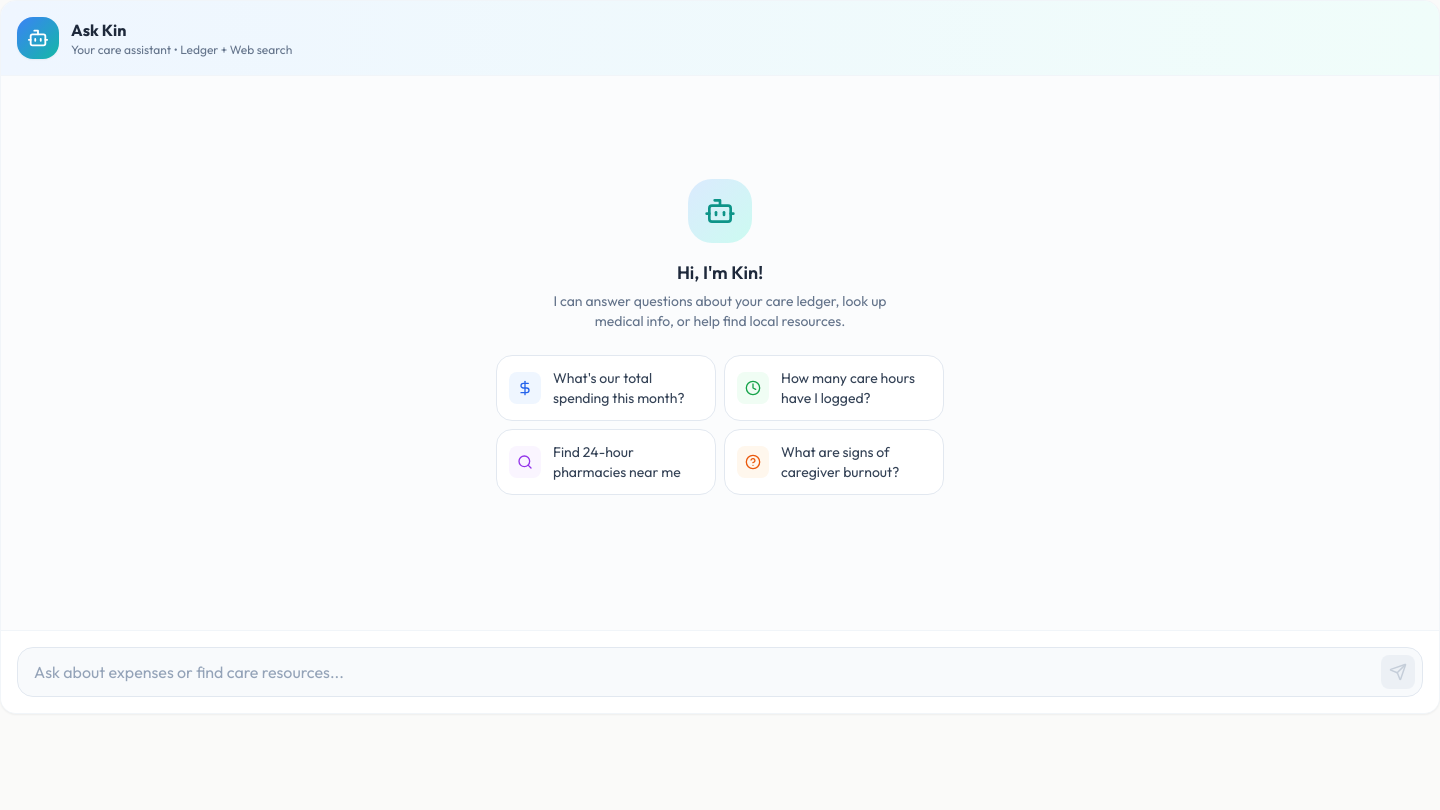
Test: ChatAssistant › shows a friendly error message on failure
(page scrolled)
Type "Help" into the field with placeholder "Ask about expenses or find care resources..." at (720,672), box [17,647,1423,697]
Then press Enter
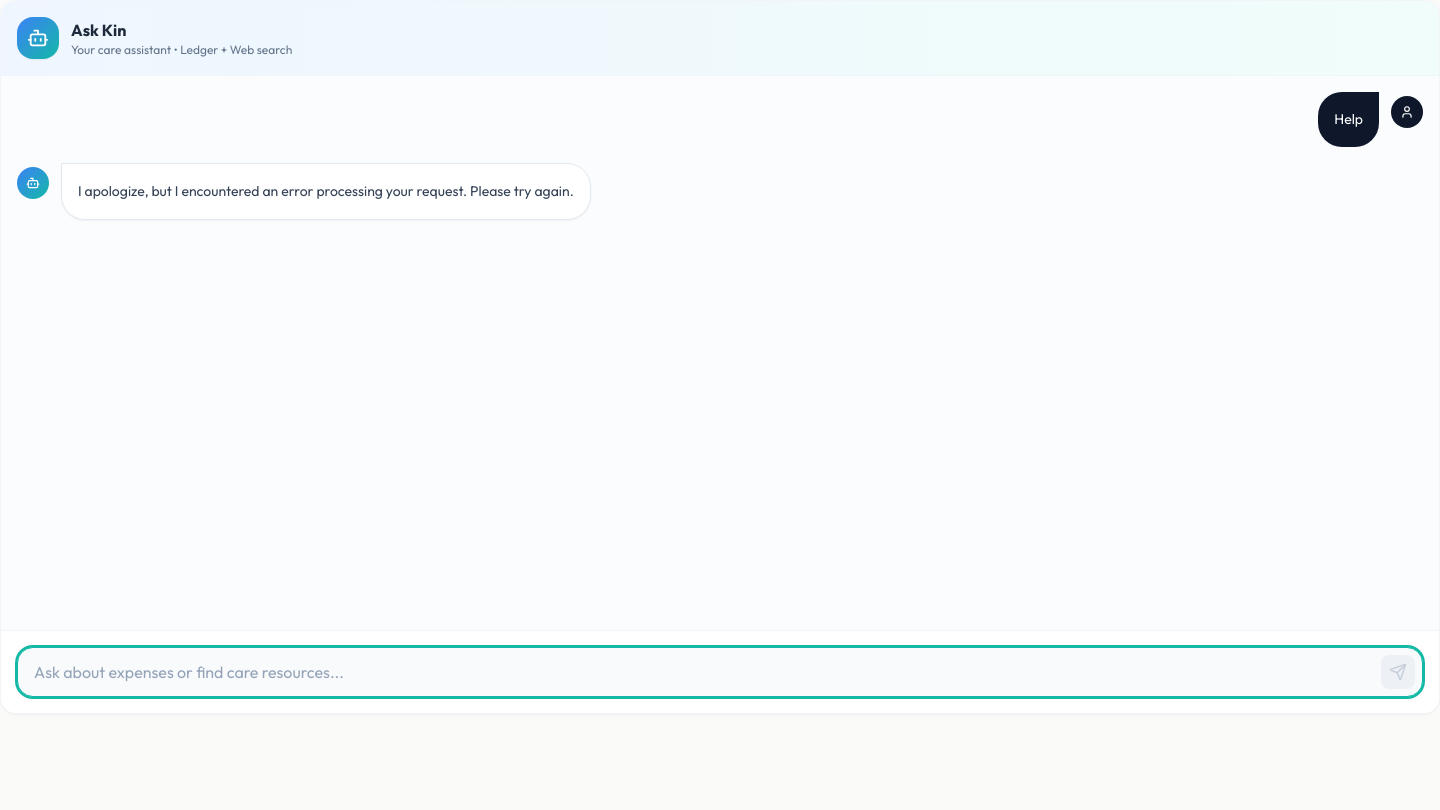
Expected: the text "encountered an error" is shown, [78,182,574,200]
